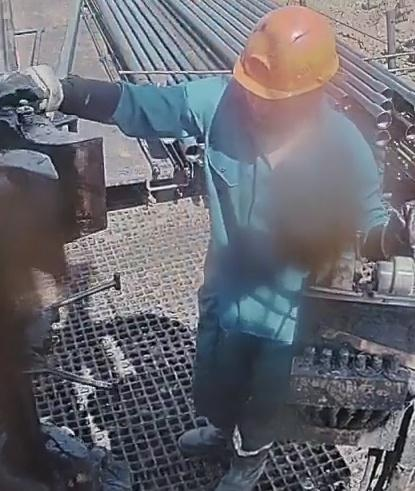gloves: (0, 63, 63, 114), (364, 198, 415, 260)
helmet: (232, 5, 339, 100)
vest: (194, 81, 381, 344)
